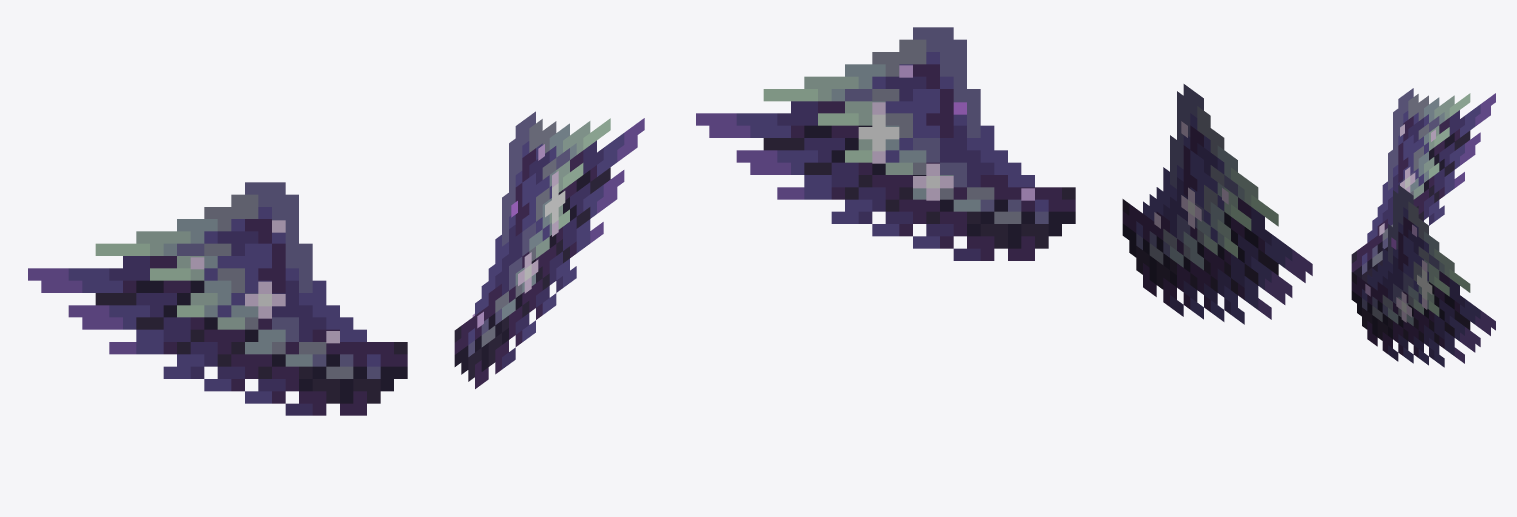
The model's file is sl_astral_wings.glb.
3 renders of one model, left to right at view 1: azimuth 30°, elevation 25°; view 2: azimuth 150°, elevation 25°; view 3: azimuth 270°, elevation 25°, orthographic. The views are drawn at different scales.
Visible parts, largest first — view 1: bb_astral_wings; view 2: bb_astral_wings; view 3: bb_astral_wings.
Boxes of the visible parts, x1,y1,x2,y2 form: bb_astral_wings: (28, 111, 644, 415); bb_astral_wings: (696, 27, 1312, 324); bb_astral_wings: (1351, 88, 1495, 367).
Bounding box in the file's own units: 3.4 × 1.69 × 0.9279.
Materials: 1 (1 with a texture image).
